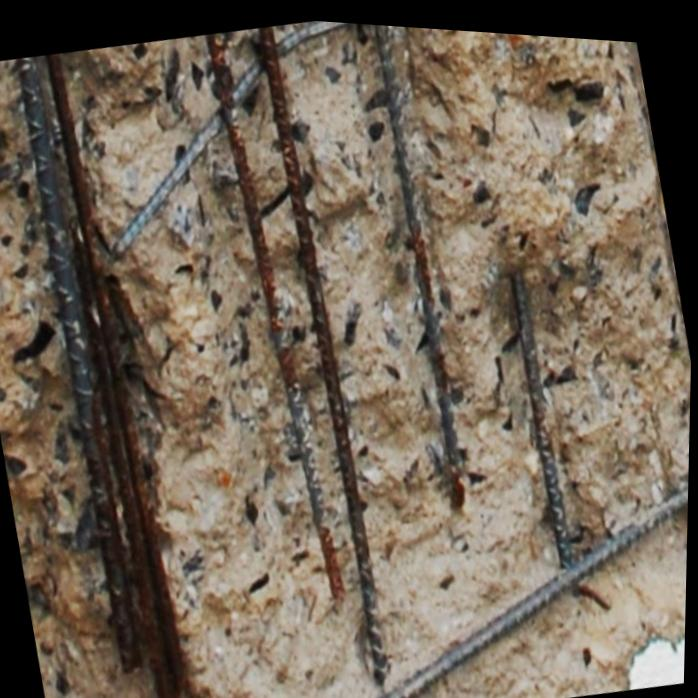damage: (0, 17, 692, 698)
